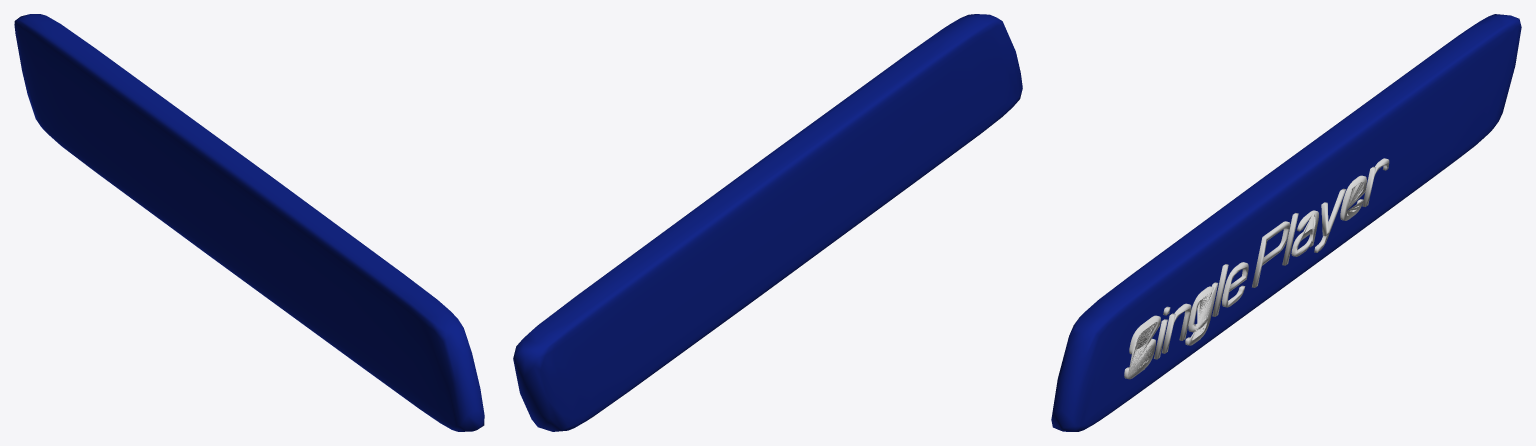
File: SinglePlayer.fbx
3 views of the same model, side by side, from view 1: azimuth 30°, elevation 25°; view 2: azimuth 150°, elevation 25°; view 3: azimuth 330°, elevation 25° (orthographic). The views are drawn at different scales.
Visible parts, largest first — view 1: Button; view 2: Button; view 3: Button, Text.
Boxes of the visible parts, bbox=[...] form: Button: bbox=[14, 14, 484, 431]; Button: bbox=[513, 14, 1022, 431]; Button: bbox=[1051, 14, 1521, 431]; Text: bbox=[1124, 158, 1389, 379].
Bounding box in the file's own units: 0.5752 × 1.71 × 13.61.
